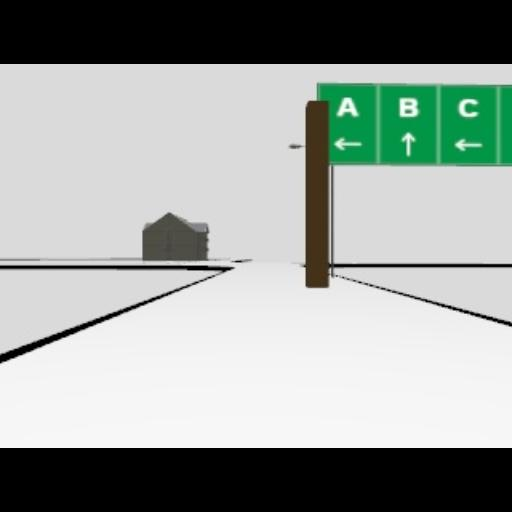A: (336, 95, 358, 117)
B: (398, 96, 420, 116)
C: (458, 98, 478, 116)
Left: (333, 138, 363, 150), (453, 138, 483, 150)
Straight: (400, 131, 416, 155)
